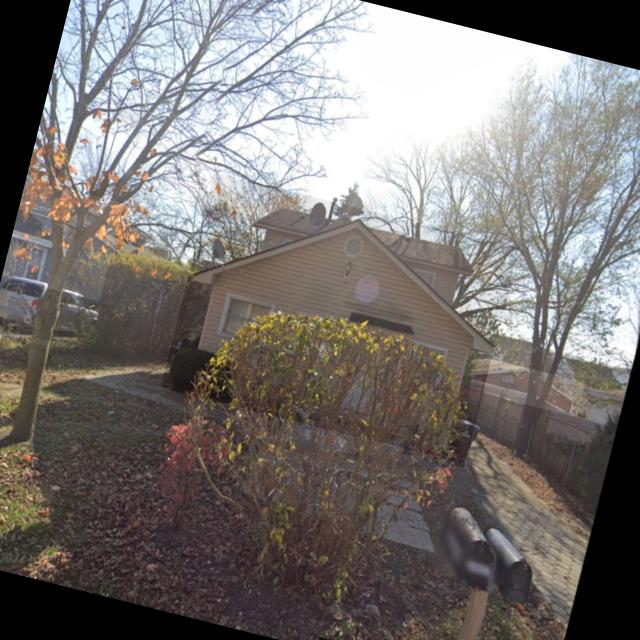House: (161, 172, 518, 463), (2, 178, 124, 302), (466, 354, 585, 416)
